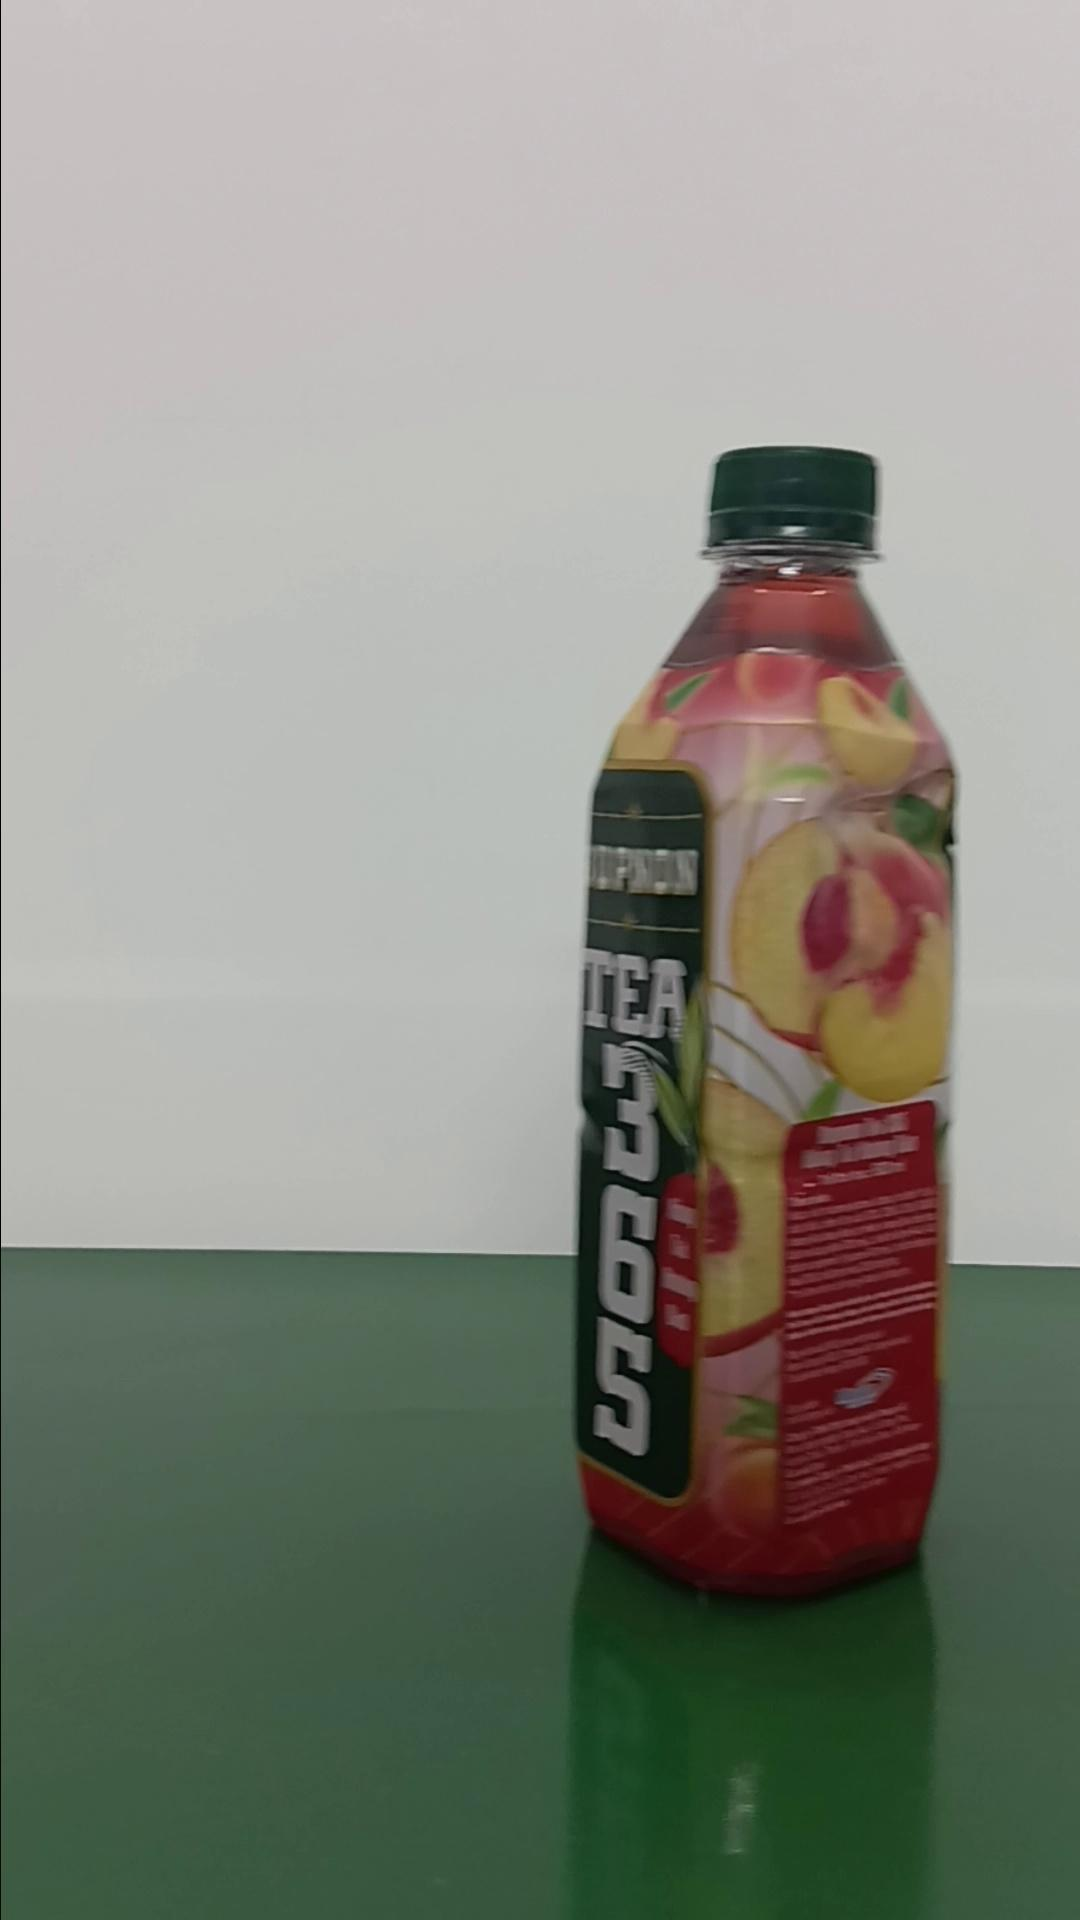loi meo sp: (568, 440, 961, 1600)
